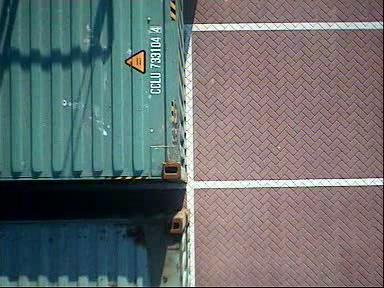groundmarker_2: (317, 180, 366, 209), (316, 37, 365, 66), (318, 5, 367, 33)
